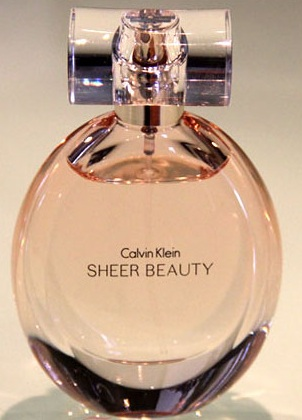Calvin Klein: (115, 240, 187, 262)
